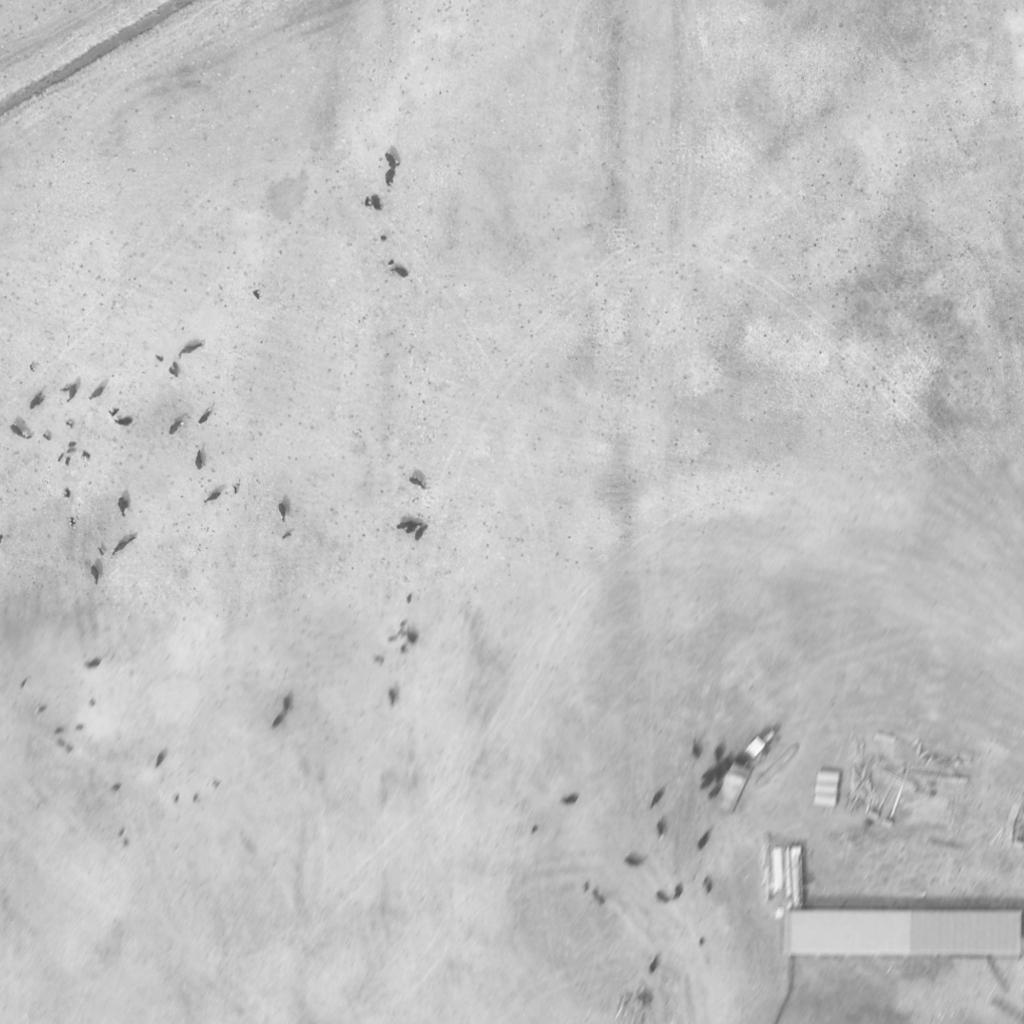vehicle: (738, 729, 782, 771)
